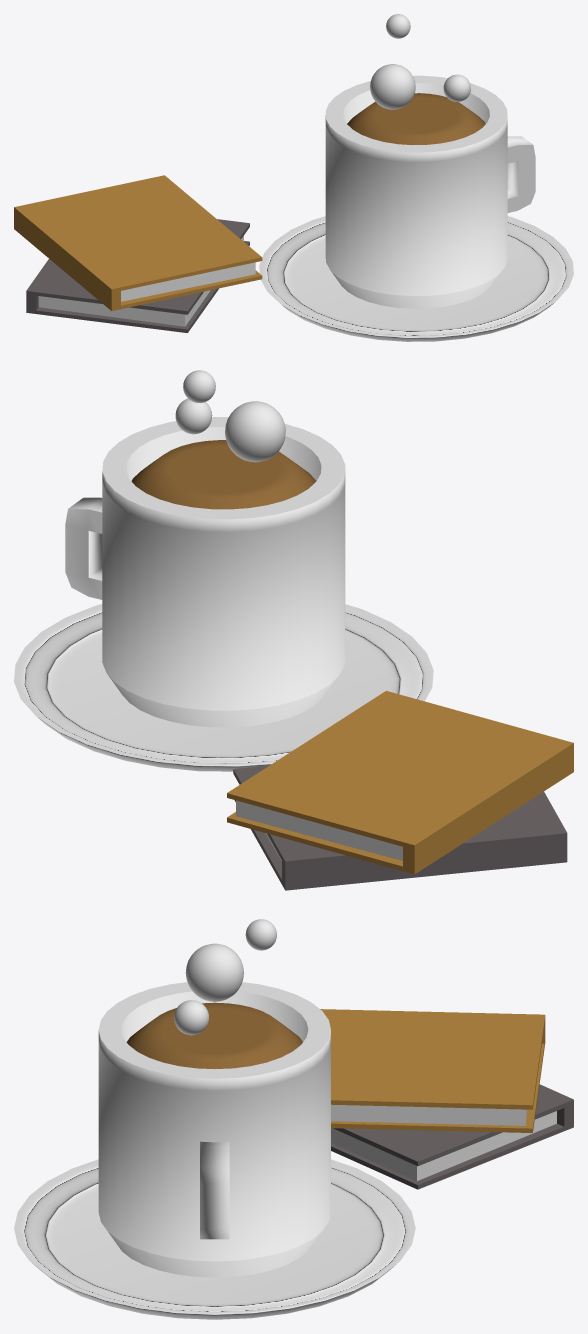
File: coffee.glb
3 renders of one model, top to bottom at view 1: azimuth 30°, elevation 25°; view 2: azimuth 150°, elevation 25°; view 3: azimuth 270°, elevation 25°, orthographic. The views are drawn at different scales.
Parts seen in each view (by area): view 1: 柱体, clickable_book, 柱体.001, 立方体.001, 柱体.002, 立方体, 球体, 球体.001, 球体.002; view 2: 柱体, clickable_book, 柱体.001, 立方体.001, 柱体.002, 立方体, 球体, 球体.001, 球体.002; view 3: 柱体, 柱体.001, clickable_book, 立方体.001, 柱体.002, 立方体, 球体, 球体.001, 球体.002.
Boxes of the visible parts, x1,y1,x2,y2 form: 柱体: (325,75,507,308); clickable_book: (14,175,262,310); 柱体.001: (259,216,573,341); 立方体.001: (26,219,249,332); 柱体.002: (347,93,485,144); 立方体: (507,136,535,212); 球体: (370,64,415,109); 球体.001: (443,74,470,101); 球体.002: (386,14,410,38); 柱体: (102,417,345,727); clickable_book: (227,690,573,874); 柱体.001: (14,604,433,771); 立方体.001: (233,765,567,890); 柱体.002: (131,440,316,509); 立方体: (65,497,102,599); 球体: (225,401,285,462); 球体.001: (175,398,212,434); 球体.002: (183,370,215,402); 柱体: (98,982,330,1277); 柱体.001: (14,1159,415,1319); clickable_book: (320,1009,545,1132); 立方体.001: (331,1084,573,1189); 柱体.002: (126,1002,302,1069); 立方体: (200,1141,229,1239); 球体: (185,943,243,1001); 球体.001: (174,1000,209,1035); 球体.002: (245,919,276,950).
Size of what is drawn, in the model's own units: 5.83 by 3.07 by 4.82.
